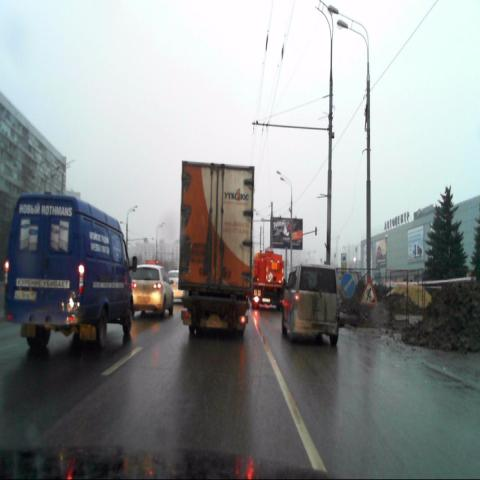4_2_2: (340, 273, 354, 299)
